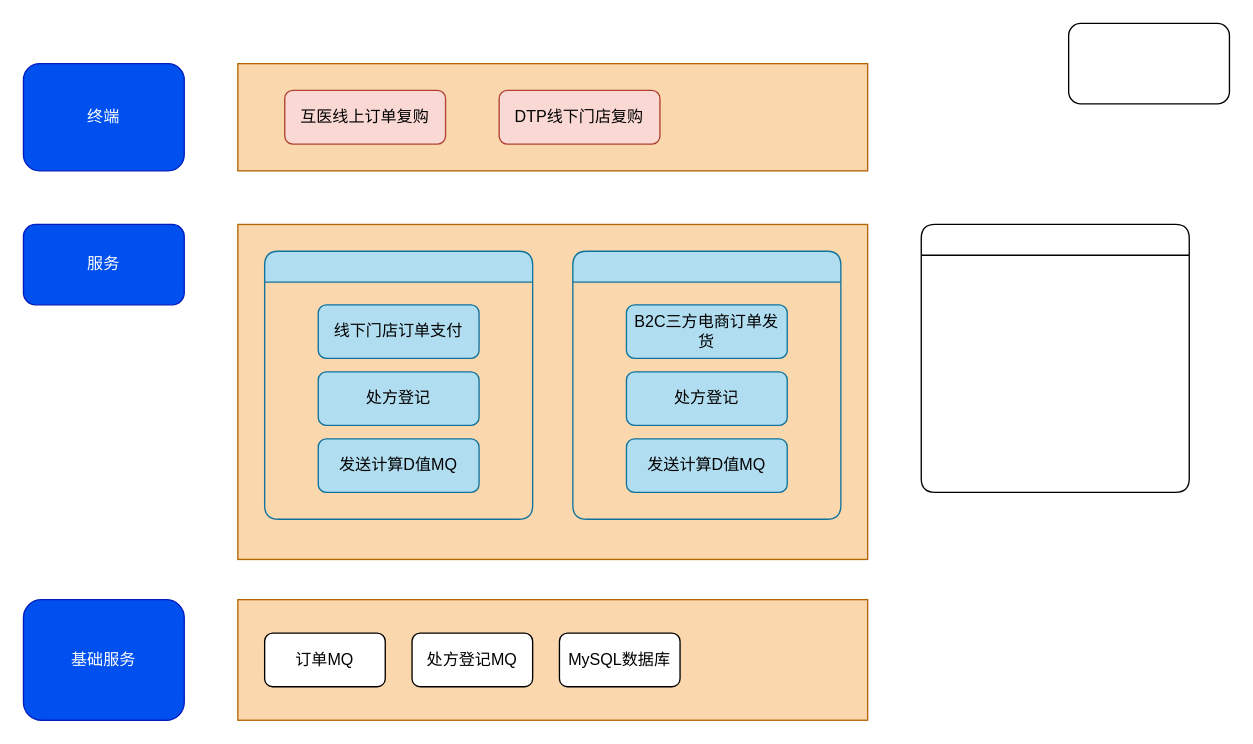
The diagram is 1253 pixels wide and 744 high, and some of its shapes have lost their labels. The box of each missing label's shape, as (x1, y1, x2, y2) in pixels:
DTP: (263, 250, 533, 519)
互医AICENTERER: (920, 223, 1189, 492)
宝芝林: (572, 250, 841, 519)
